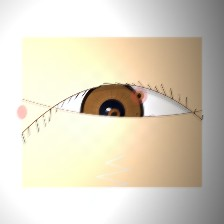foreign_body_visible: (127, 86, 151, 105)
